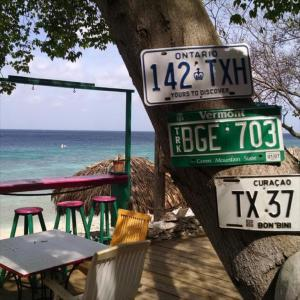Vehicle-registration-plate: (168, 105, 284, 167), (142, 43, 255, 104), (214, 174, 300, 233)
